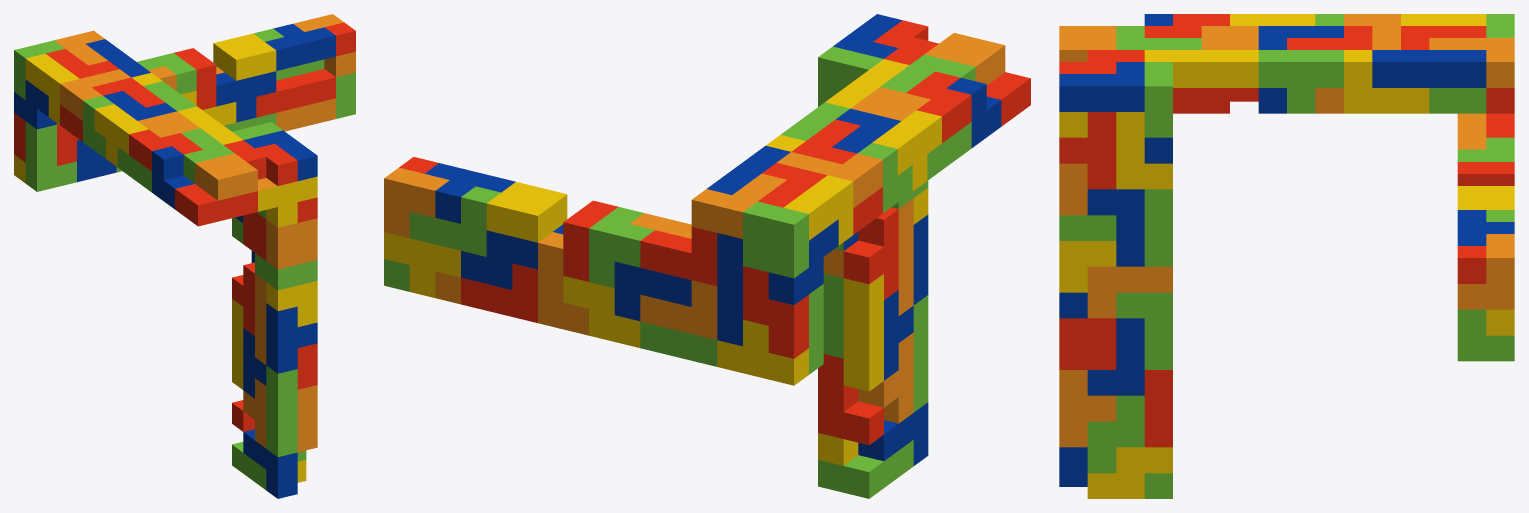
File: ImpossibleTetris.glb
The picture shows the model from 3 angles, left to right: view 1: azimuth 30°, elevation 25°; view 2: azimuth 150°, elevation 25°; view 3: azimuth 270°, elevation 25°; orthographic projection. The views are drawn at different scales.
Visible parts, largest first — view 1: Cube_0; view 2: Cube_0; view 3: Cube_0.
Part boxes in pixels (box(x1,y1,x2,y2)): Cube_0: box(14, 14, 355, 498); Cube_0: box(384, 14, 1030, 498); Cube_0: box(1059, 14, 1514, 498).
Bounding box in the file's own units: 0.8383 × 0.8383 × 0.8383.
